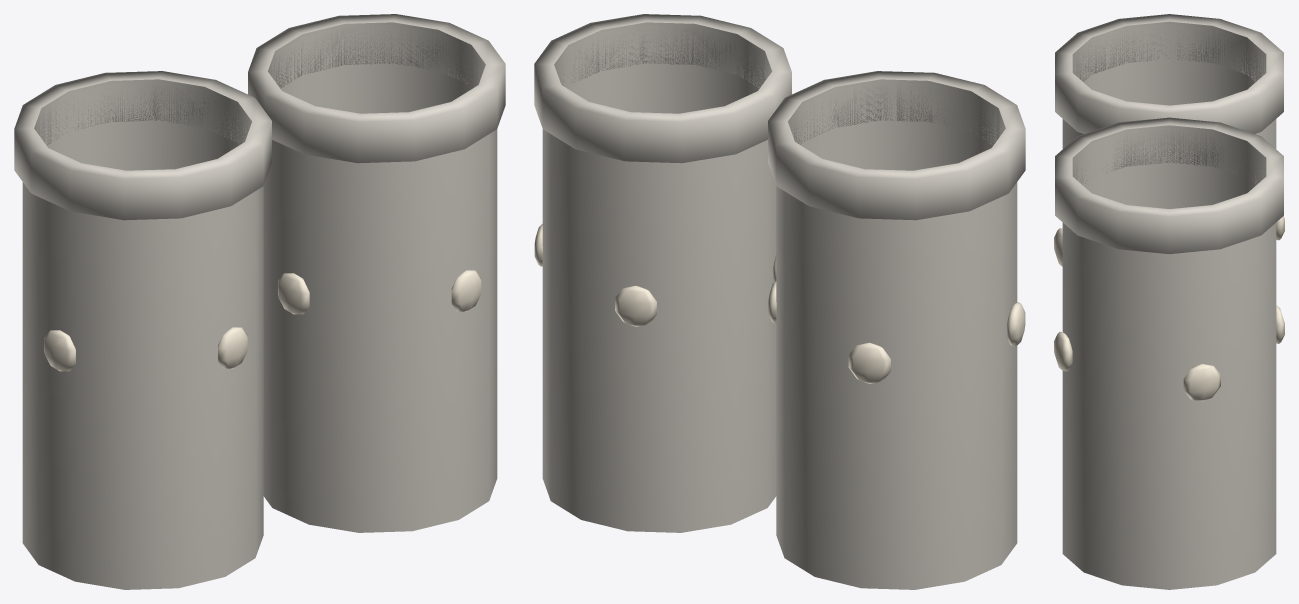
Rendered from fishnet_tights.glb.
The picture shows the model from 3 angles, left to right: view 1: azimuth 30°, elevation 25°; view 2: azimuth 150°, elevation 25°; view 3: azimuth 270°, elevation 25°; orthographic projection. The views are drawn at different scales.
Visible parts, largest first — view 1: fishnet_tights_LegL, fishnet_tights_LegR; view 2: fishnet_tights_LegL, fishnet_tights_LegR; view 3: fishnet_tights_LegR, fishnet_tights_LegL.
Part boxes in pixels (x1,y1,x2,y2): fishnet_tights_LegL: (14,71,271,589); fishnet_tights_LegR: (248,14,505,532); fishnet_tights_LegL: (768,71,1025,589); fishnet_tights_LegR: (534,14,791,532); fishnet_tights_LegR: (1054,117,1284,589); fishnet_tights_LegL: (1054,14,1284,266).
Bounding box in the file's own units: 0.372 × 0.322 × 0.1789.
